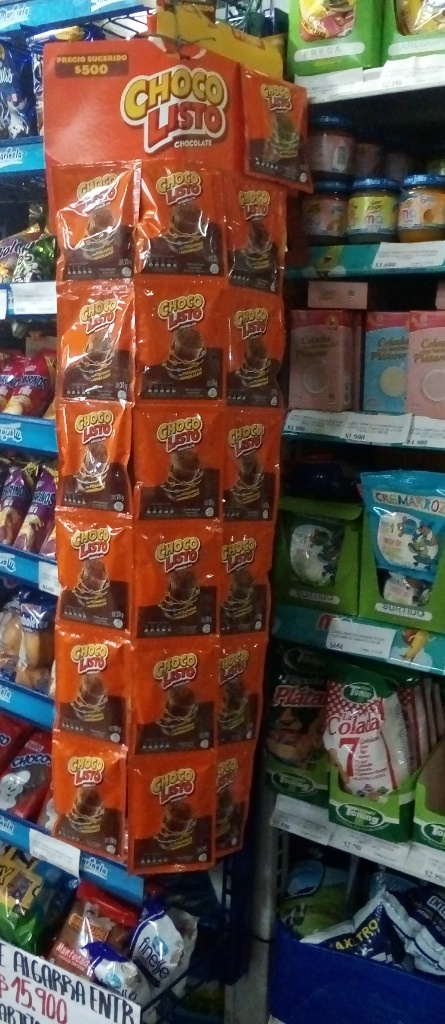COL0170103SOB02000: (52, 160, 136, 282)
